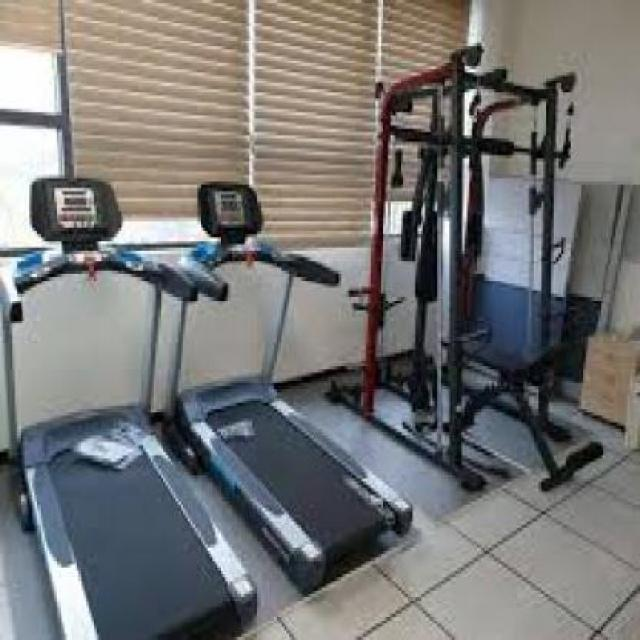smith machine: (363, 43, 605, 494)
